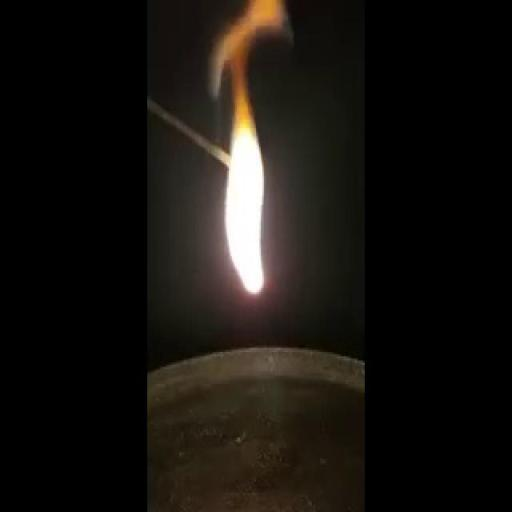smoke: (210, 47, 273, 309)
